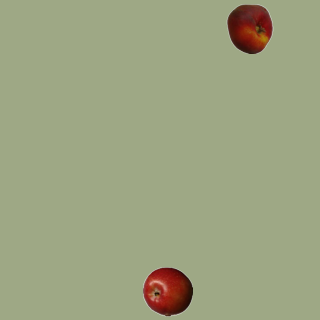Apple Braeburn: (142, 266, 192, 316)
Nectarine Flat: (224, 3, 274, 53)
